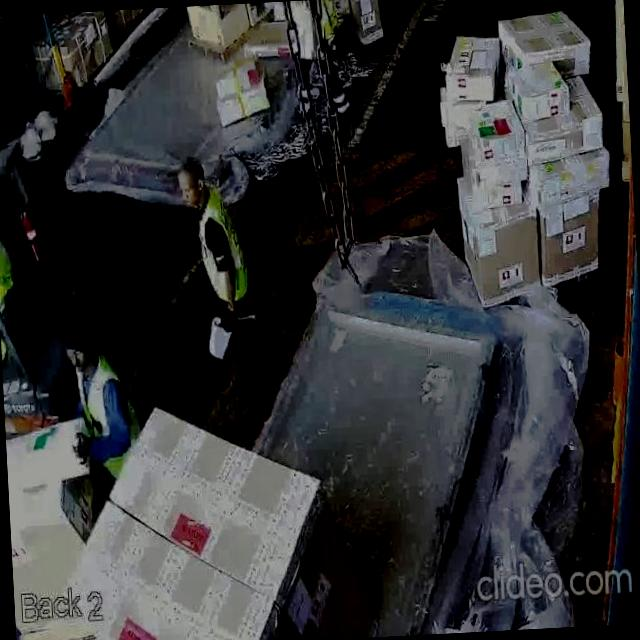Box: (459, 205, 543, 293), (499, 11, 590, 71), (538, 202, 602, 284), (206, 56, 276, 126), (442, 30, 496, 100), (466, 103, 527, 164), (536, 120, 609, 160), (538, 159, 612, 196), (515, 64, 563, 112)
